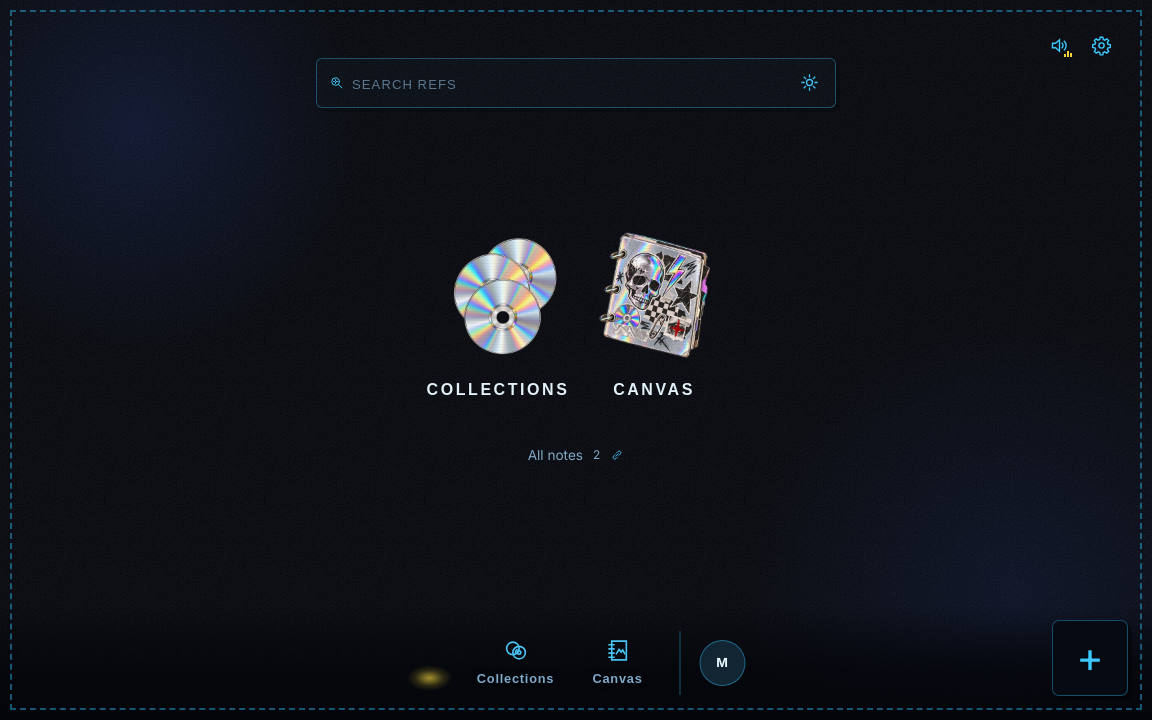
it: App › renames a collection from its right-click menu
This screenshot has width=1152, height=720.
Expected: the button "All notes 2" is shown, [516,433,636,477]
Click the button with aria-label "Open collections" at {"x": 498, "y": 316}, box [426,219,570,413]
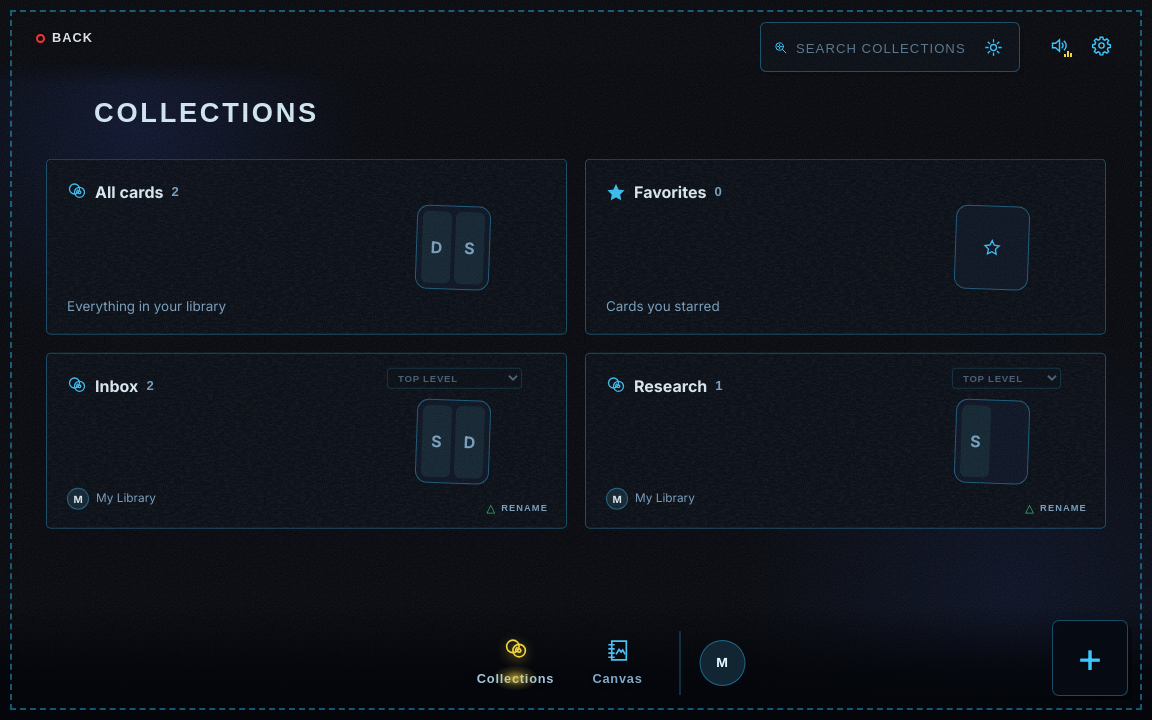
Right-click the button with aria-label "Open collection Research" at {"x": 992, "y": 441}, box [586,353,1105,527]
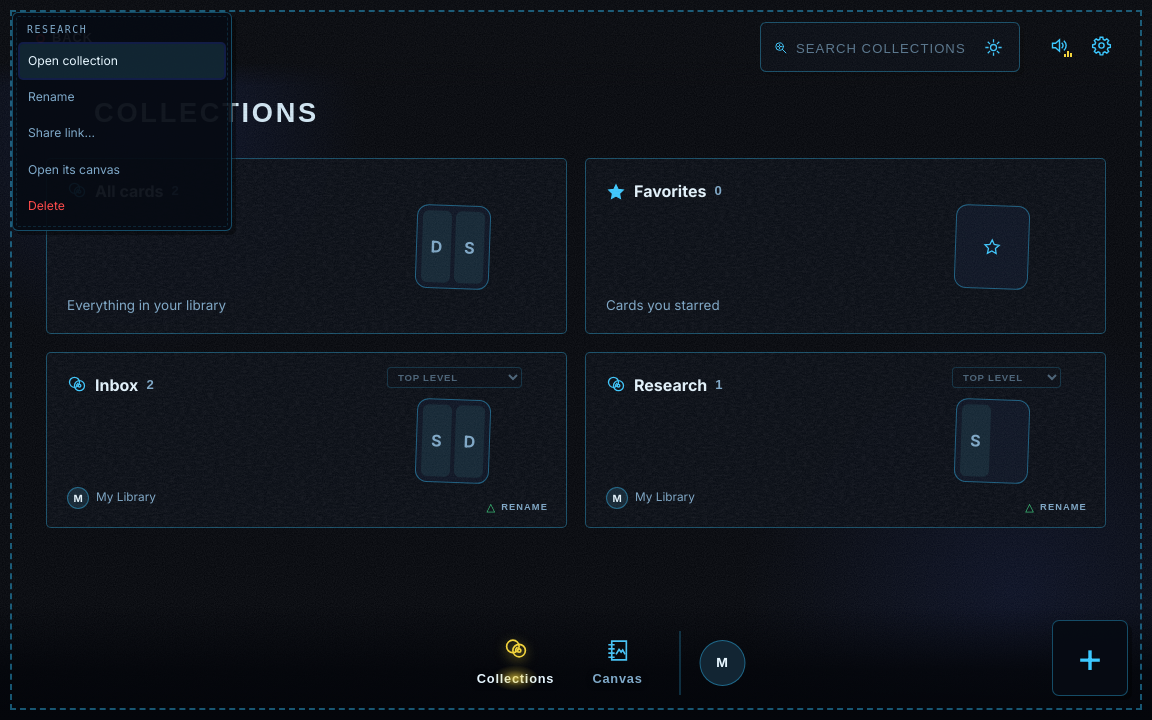
Click the menu item "Rename" at {"x": 122, "y": 97}, box [20,80,224,114]
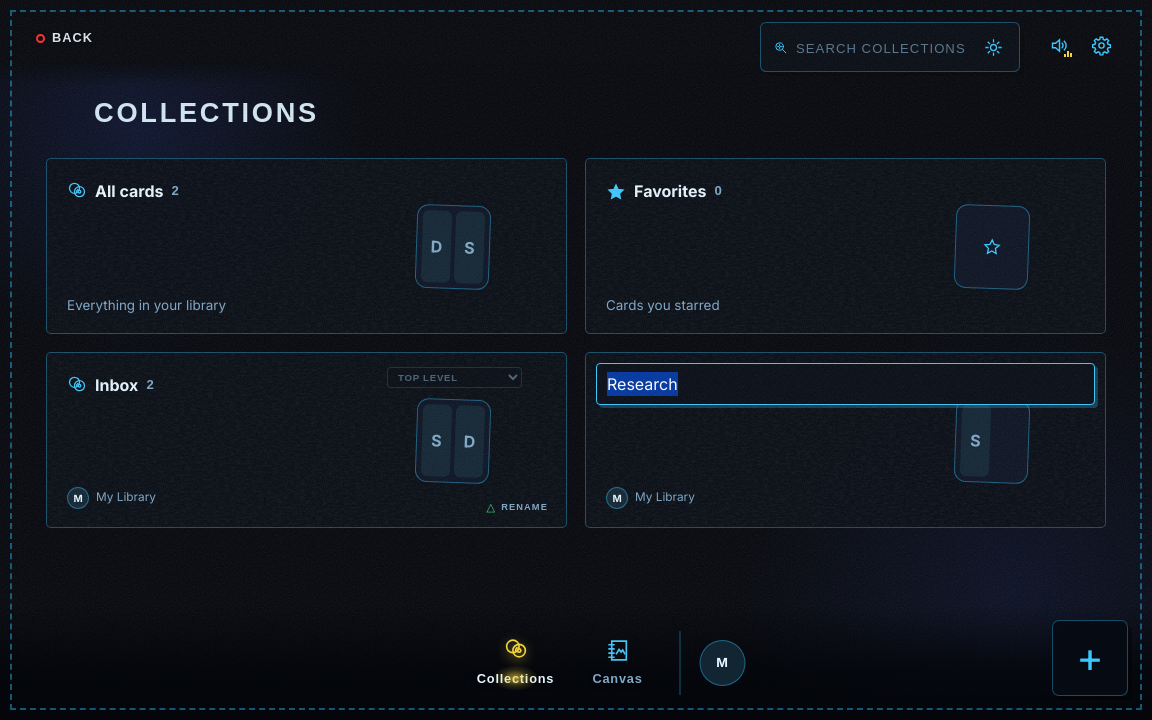
Replace the text in the field named "New name for Research" with "Field notes" at {"x": 845, "y": 384}, box [596,363,1095,405]
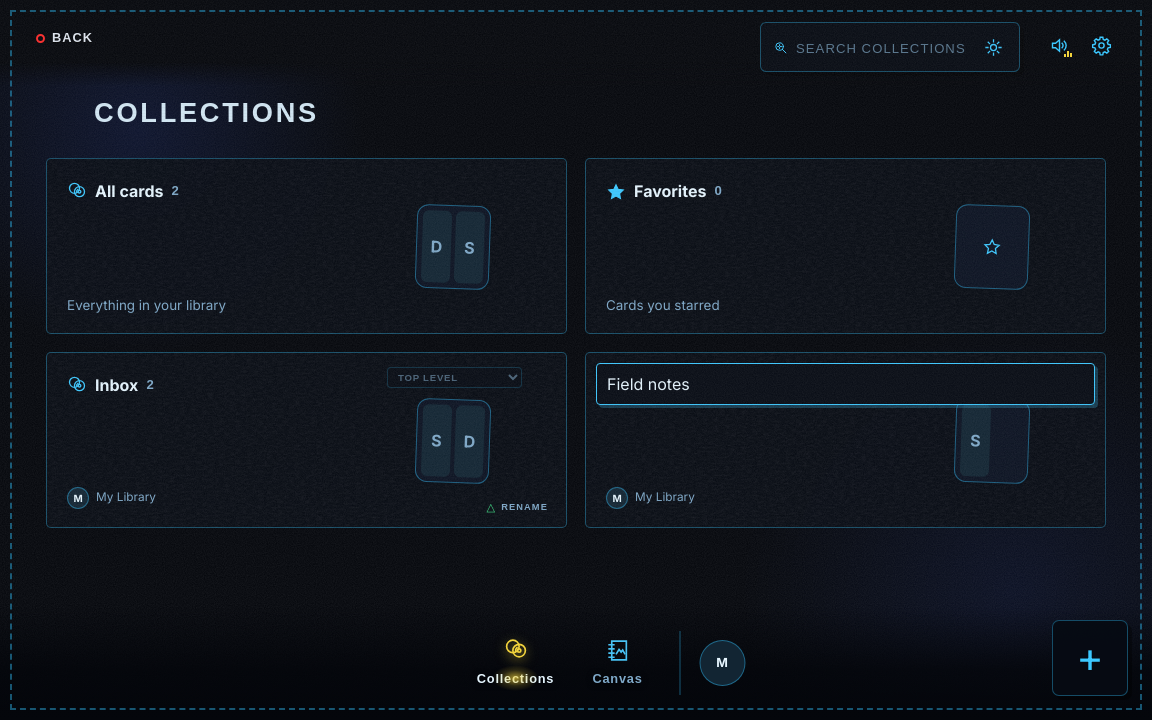
Submit the form named "New name for Research", box [596,363,1095,405]
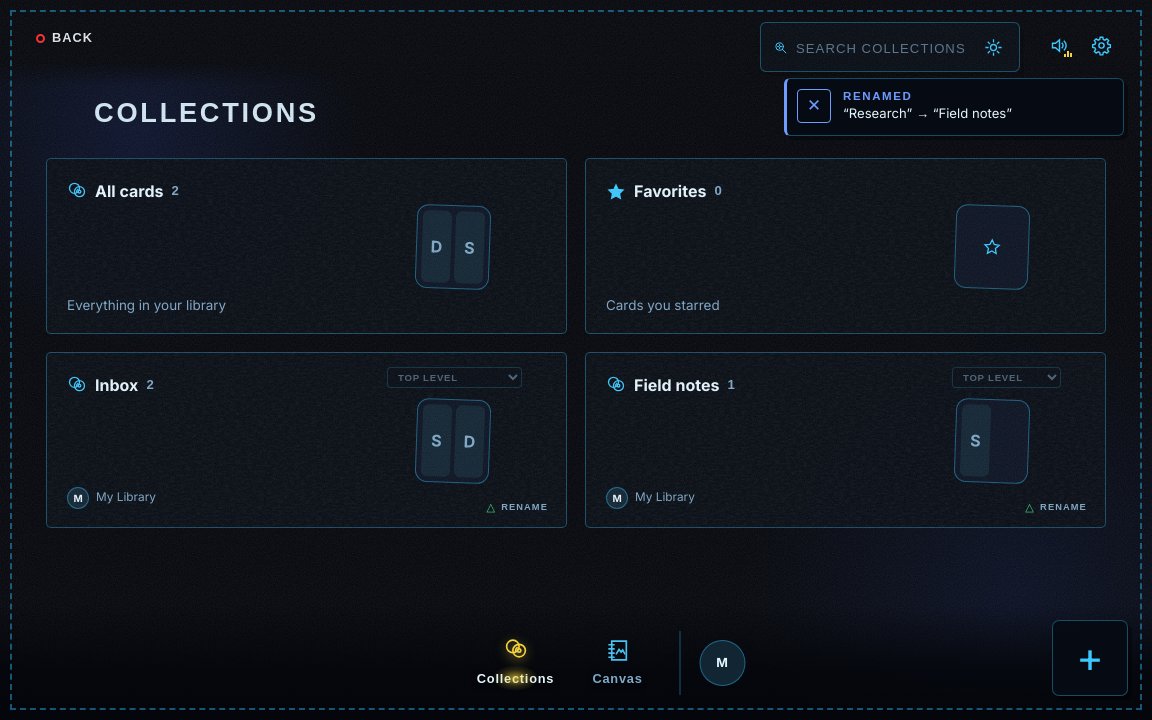
Result: the button with aria-label "Open collection Field notes" is shown at [586,353,1105,527]
